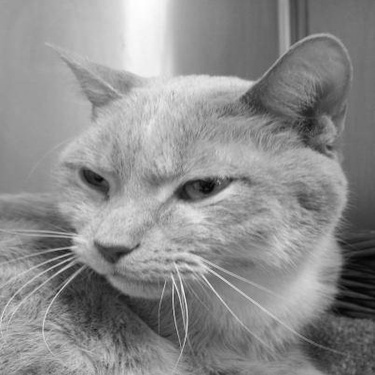cat: (9, 33, 352, 372)
